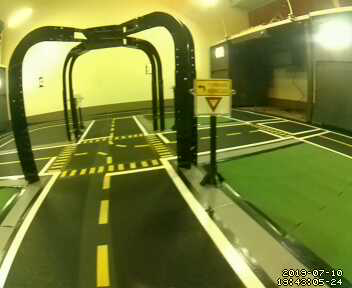Turn Yield: (194, 78, 233, 118)
